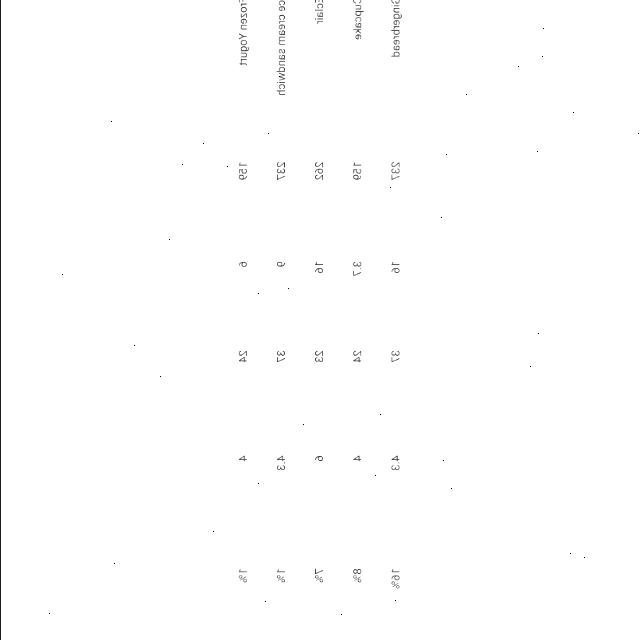VDataTable: (228, 0, 412, 640)
